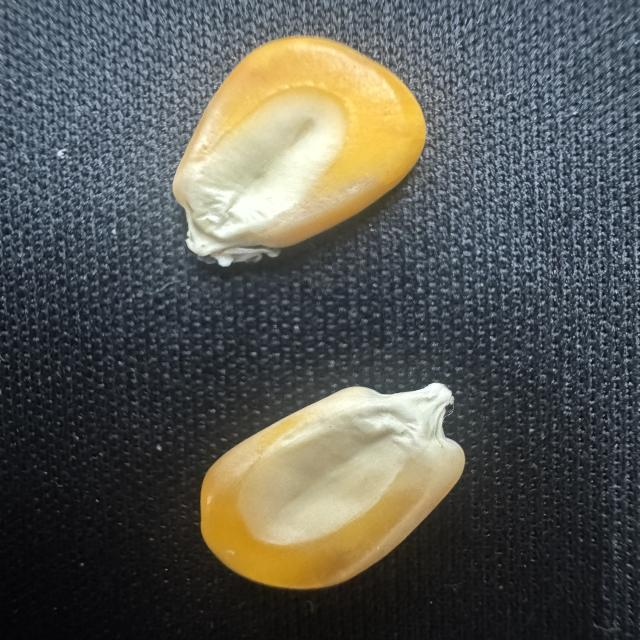Good-Seed: (166, 26, 431, 273), (191, 370, 478, 593)
